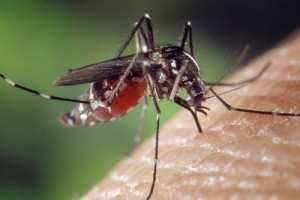dengue_mosquito: (1, 12, 271, 133)
